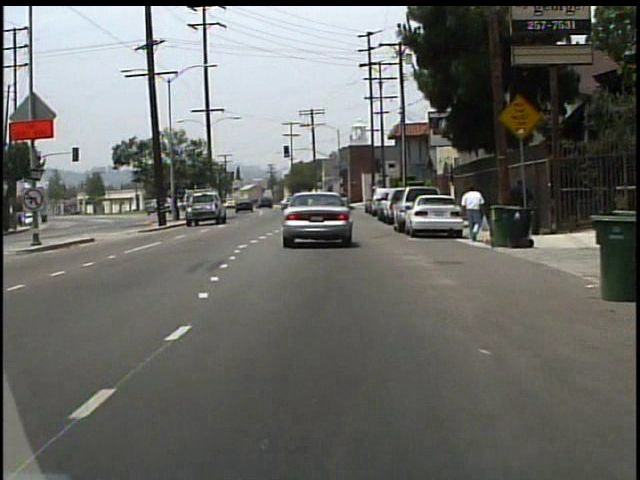person: (458, 184, 486, 244)
